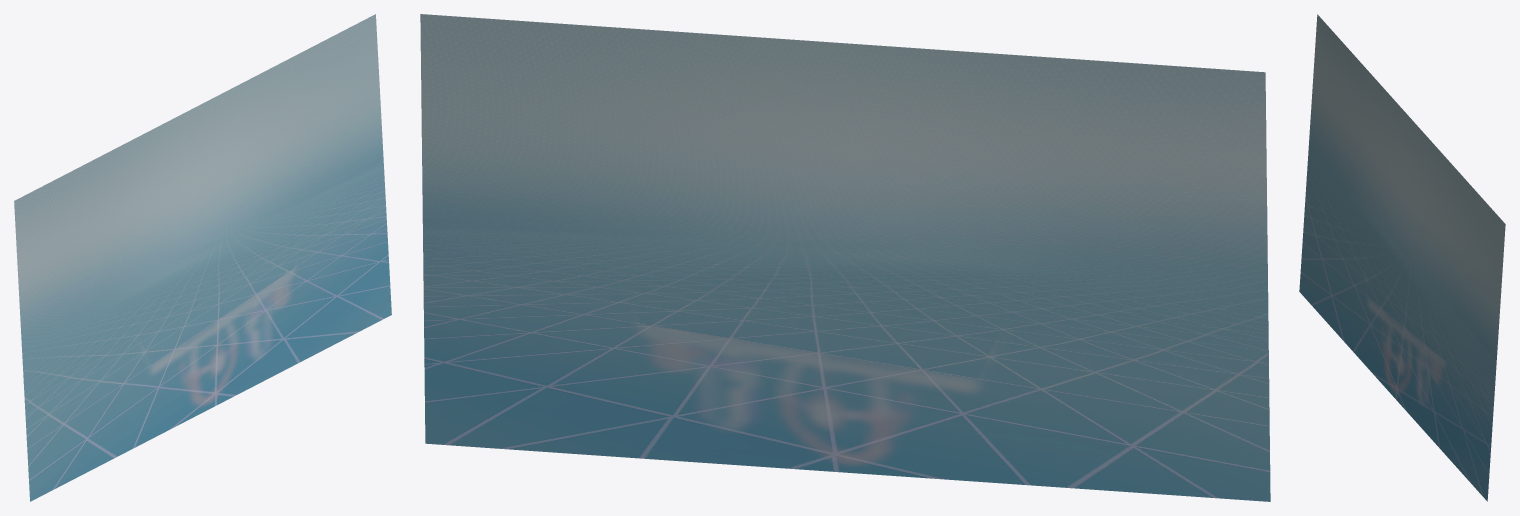
File: pref_sm_choujiangjiemian_BJ_lv0.fbx
The picture shows the model from 3 angles, left to right: view 1: azimuth 30°, elevation 25°; view 2: azimuth 150°, elevation 25°; view 3: azimuth 270°, elevation 25°; orthographic projection. The views are drawn at different scales.
Visible parts, largest first — view 1: sm_choujiangjiemian_BJ_lv0; view 2: sm_choujiangjiemian_BJ_lv0; view 3: sm_choujiangjiemian_BJ_lv0.
Boxes of the visible parts, x1,y1,x2,y2 form: sm_choujiangjiemian_BJ_lv0: (14, 14, 391, 501); sm_choujiangjiemian_BJ_lv0: (420, 14, 1270, 501); sm_choujiangjiemian_BJ_lv0: (1299, 14, 1505, 501).
Size of the model in its own units: 31.85 by 19.16 by 13.03.
